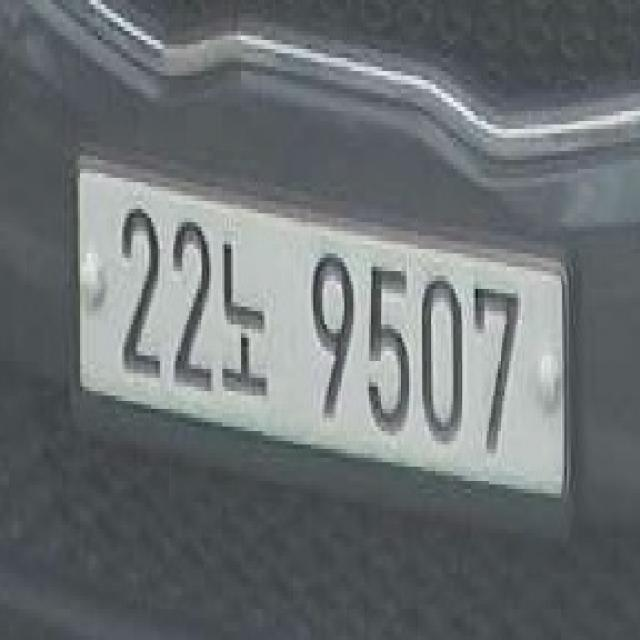0: (415, 266, 469, 450)
2: (168, 204, 219, 399), (114, 195, 164, 385)
5: (363, 245, 416, 445)
7: (471, 274, 528, 467)
9: (304, 242, 360, 423)
license_plate: (81, 164, 563, 495)
no: (218, 224, 274, 407)
